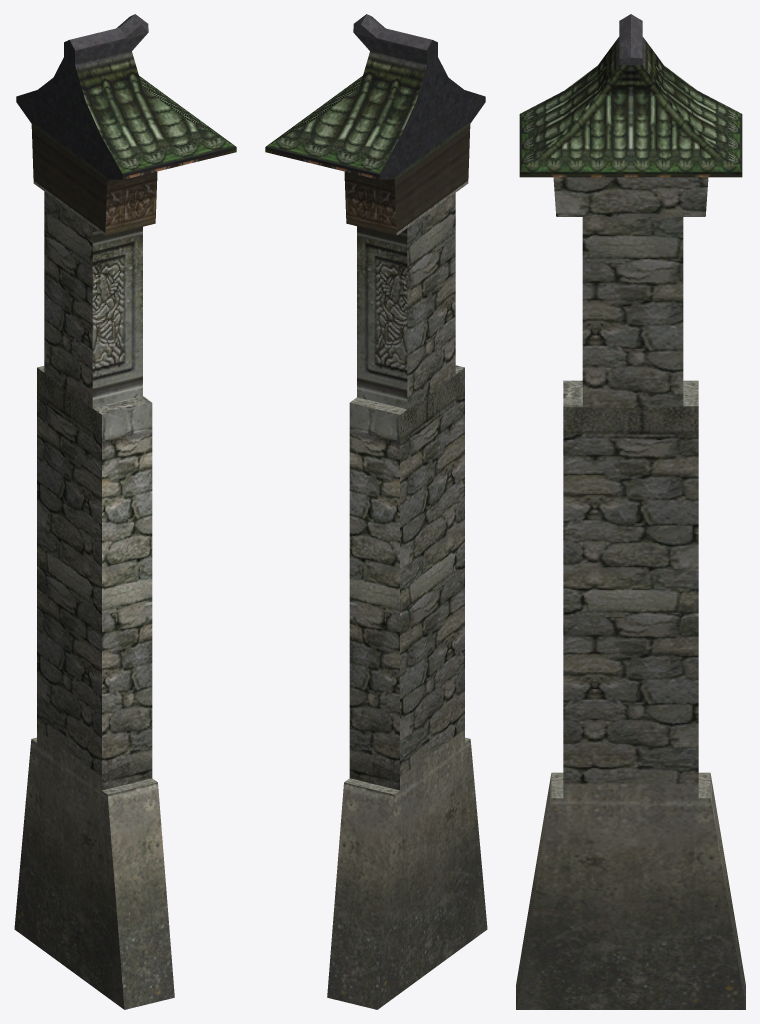
Rendered from c1-middledam-06.fbx.
3 views of the same model, side by side, from view 1: azimuth 30°, elevation 25°; view 2: azimuth 150°, elevation 25°; view 3: azimuth 270°, elevation 25° (orthographic). The views are drawn at different scales.
Visible parts, largest first — view 1: b1-middledam-06; view 2: b1-middledam-06; view 3: b1-middledam-06.
Boxes of the visible parts, bbox=[...] form: b1-middledam-06: bbox=[14, 14, 236, 1009]; b1-middledam-06: bbox=[265, 14, 487, 1009]; b1-middledam-06: bbox=[516, 14, 745, 1009].
Bounding box in the file's own units: 1.01 × 8.01 × 1.7.
